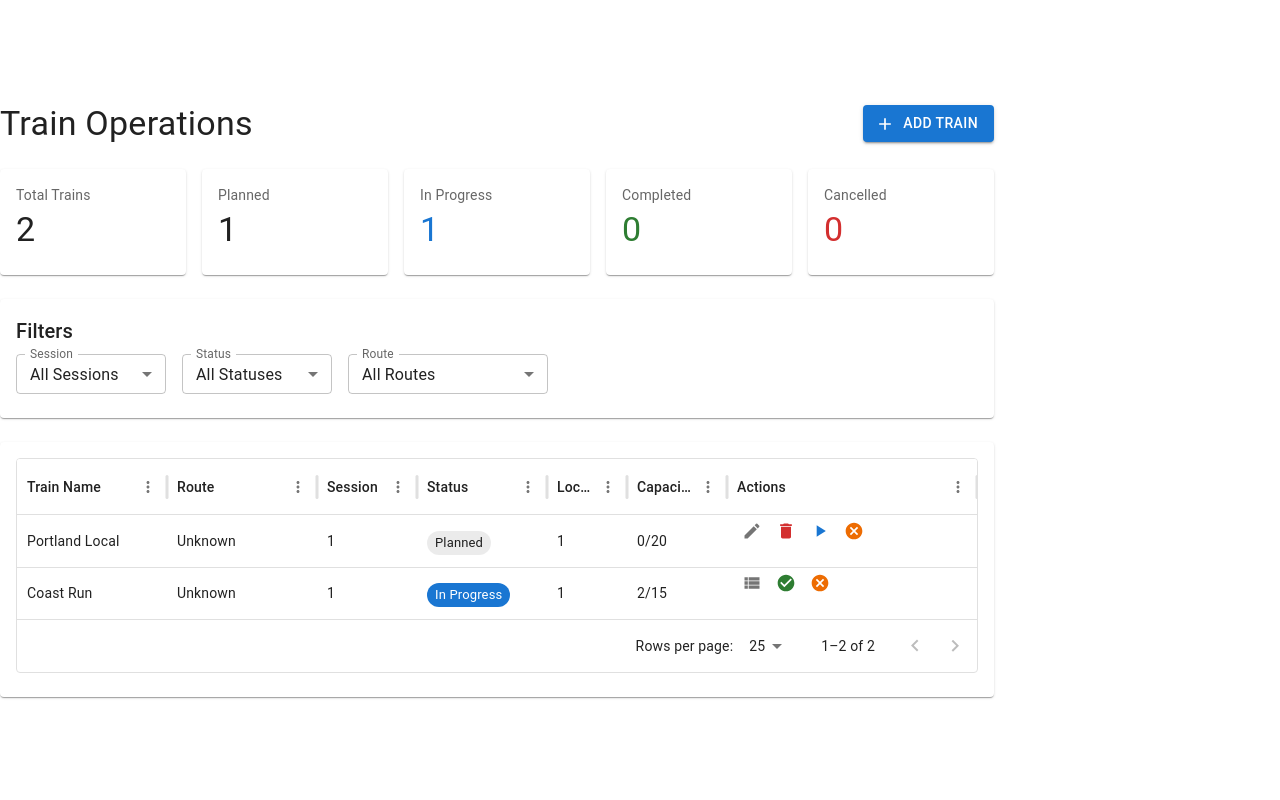
Test: TrainOperations Page › Add Train › should open add train dialog
This screenshot has width=1280, height=800.
Expected: the heading "Train Operations" is shown, [0, 103, 253, 145]
Click the button "Add Train": [929, 124] box [863, 105, 994, 142]
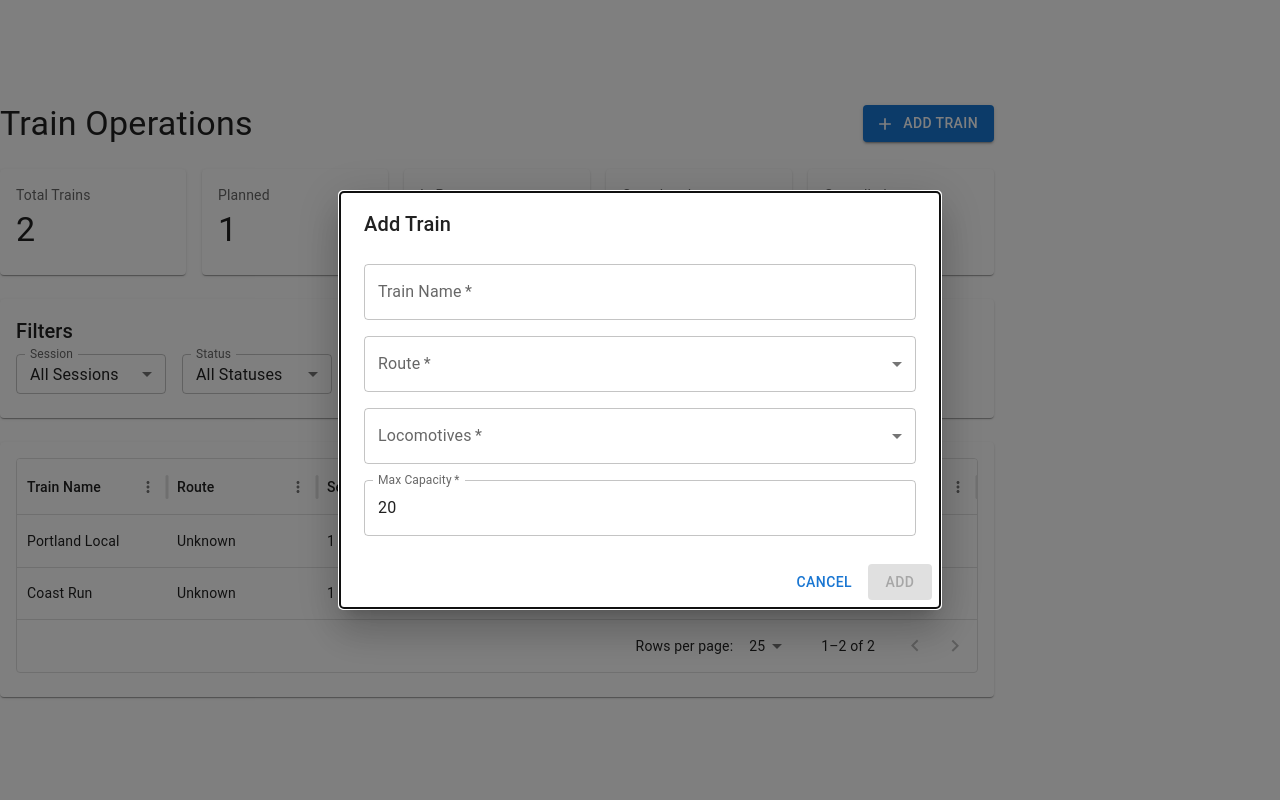
Expected: the dialog is shown, [340, 192, 940, 608]
